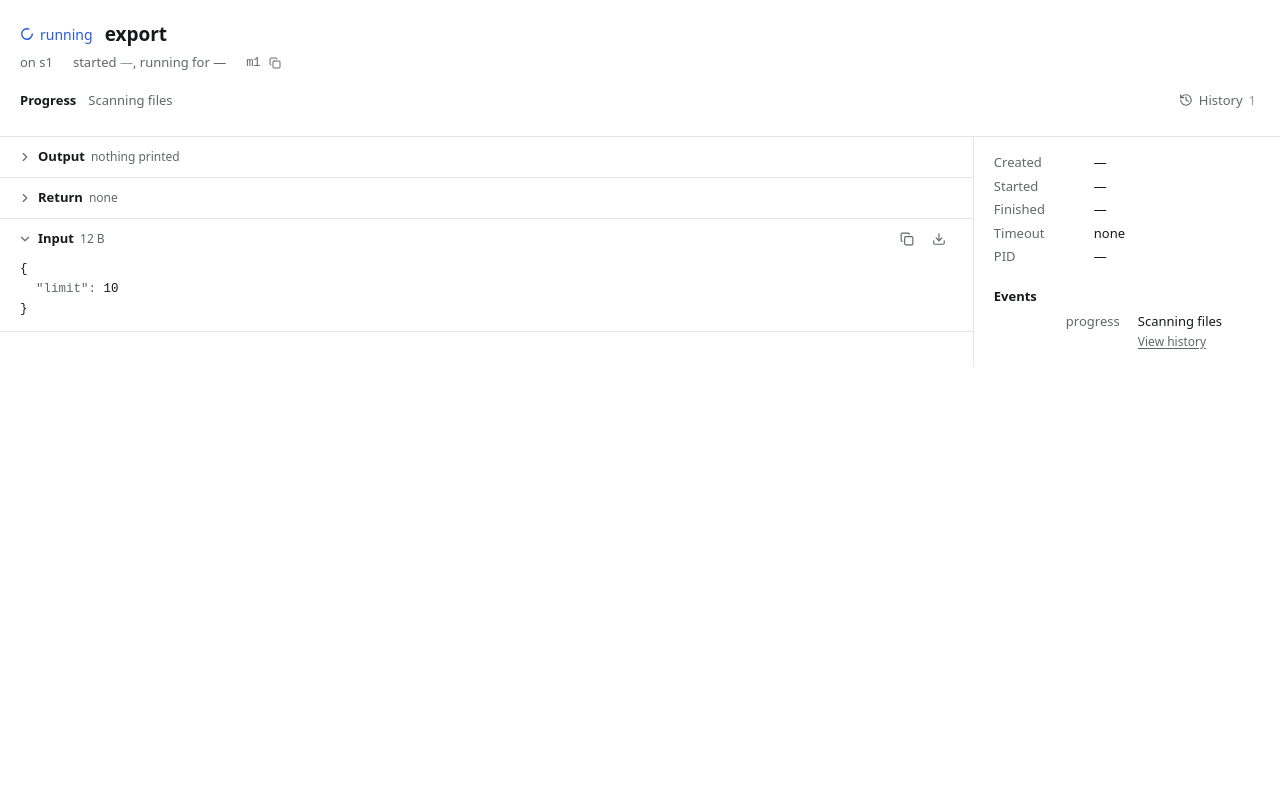
RunDetail › offers history for message-only progress without inventing a percentage
The image size is (1280, 800).
Click the button with aria-label "View progress history".
click(1217, 100)  # box left=1175, top=88, right=1260, bottom=112
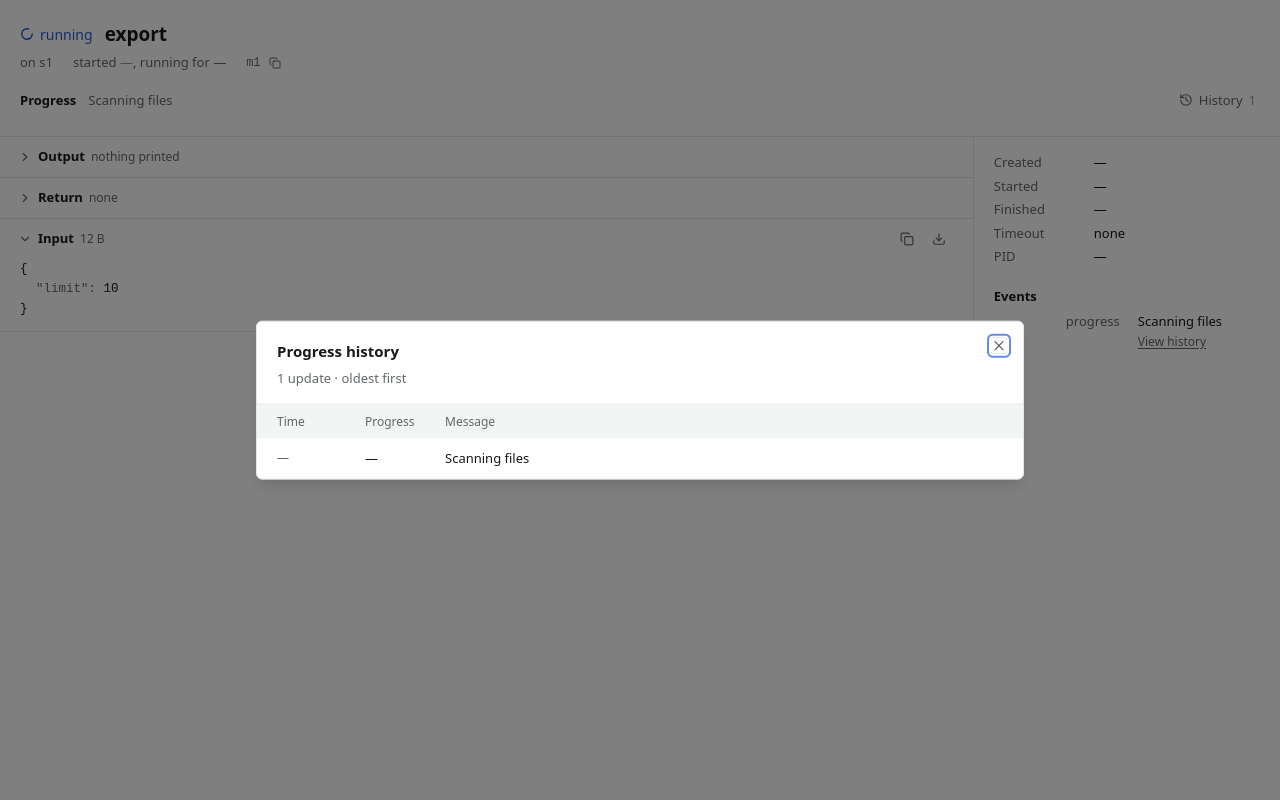
Result: the text "Scanning files" is shown at left=433, top=439, right=1023, bottom=478
